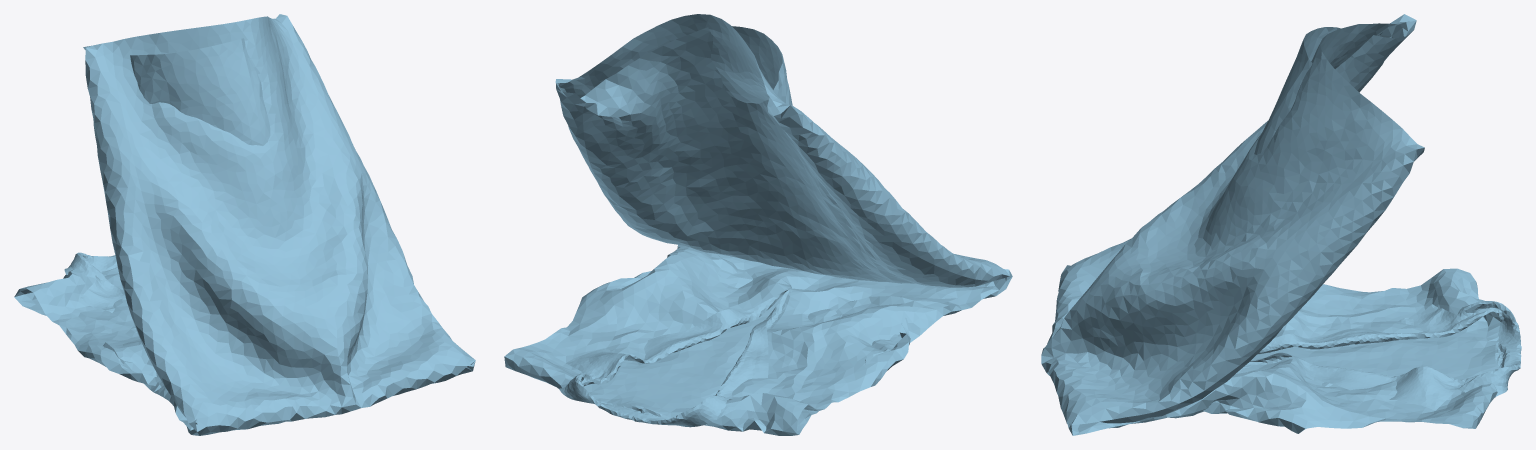
File: frame_17.glb
3 views of the same model, side by side, from view 1: azimuth 30°, elevation 25°; view 2: azimuth 150°, elevation 25°; view 3: azimuth 270°, elevation 25° (orthographic). The views are drawn at different scales.
Parts seen in each view (by area): view 1: frame_17.obj; view 2: frame_17.obj; view 3: frame_17.obj.
Boxes of the visible parts, x1,y1,x2,y2 form: frame_17.obj: (14, 14, 475, 435); frame_17.obj: (504, 14, 1012, 435); frame_17.obj: (1041, 14, 1521, 435).
Size of the model in its own units: 0.6255 by 0.6293 by 0.8312.
